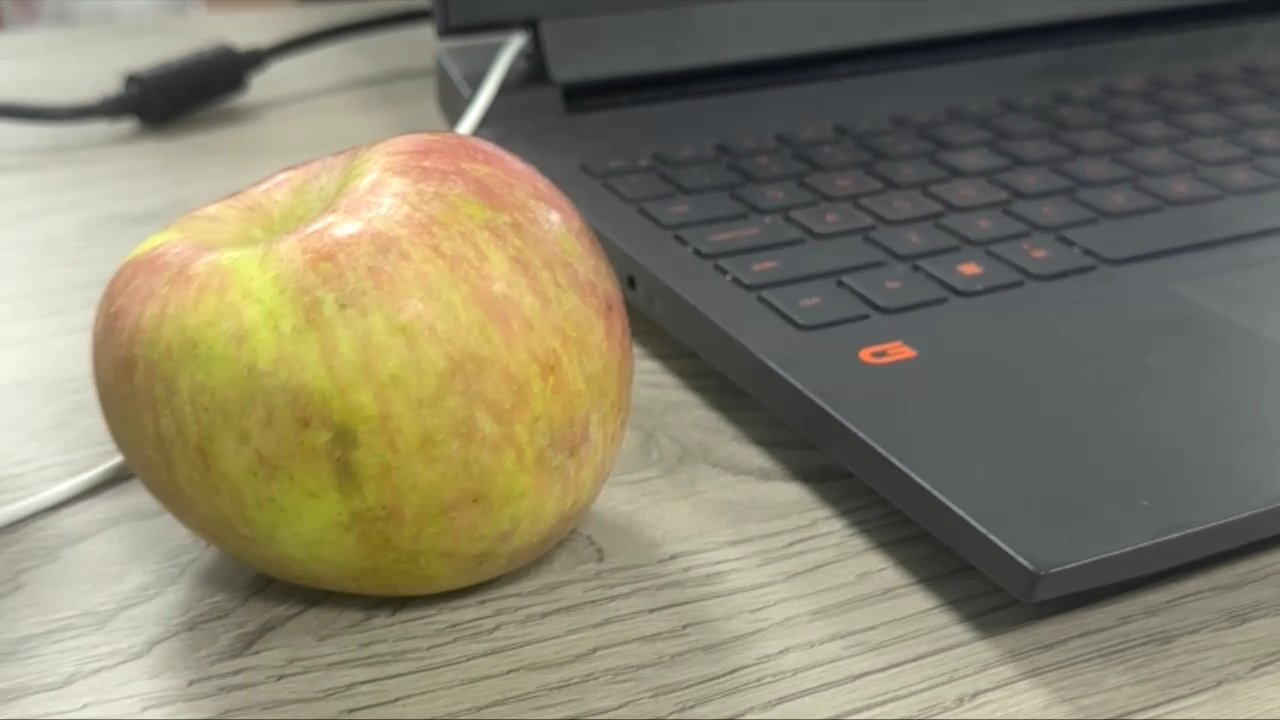apple_rotten: (85, 132, 644, 601)
